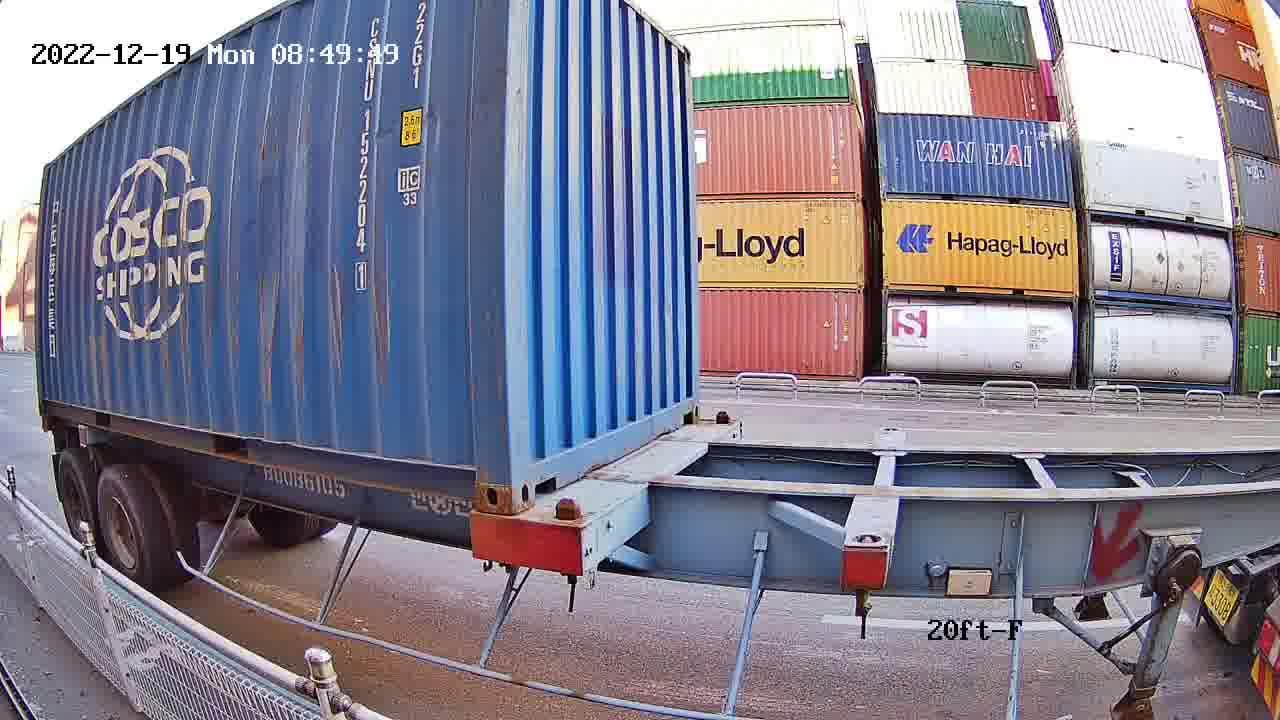Chassis: (540, 417, 740, 570)
Cone: (546, 499, 585, 570), (475, 511, 516, 564), (712, 410, 731, 426)
Hole_L: (510, 438, 552, 514)
Hole_R: (451, 449, 512, 514), (673, 379, 701, 427)
Tire: (97, 471, 151, 580), (57, 453, 99, 544)
